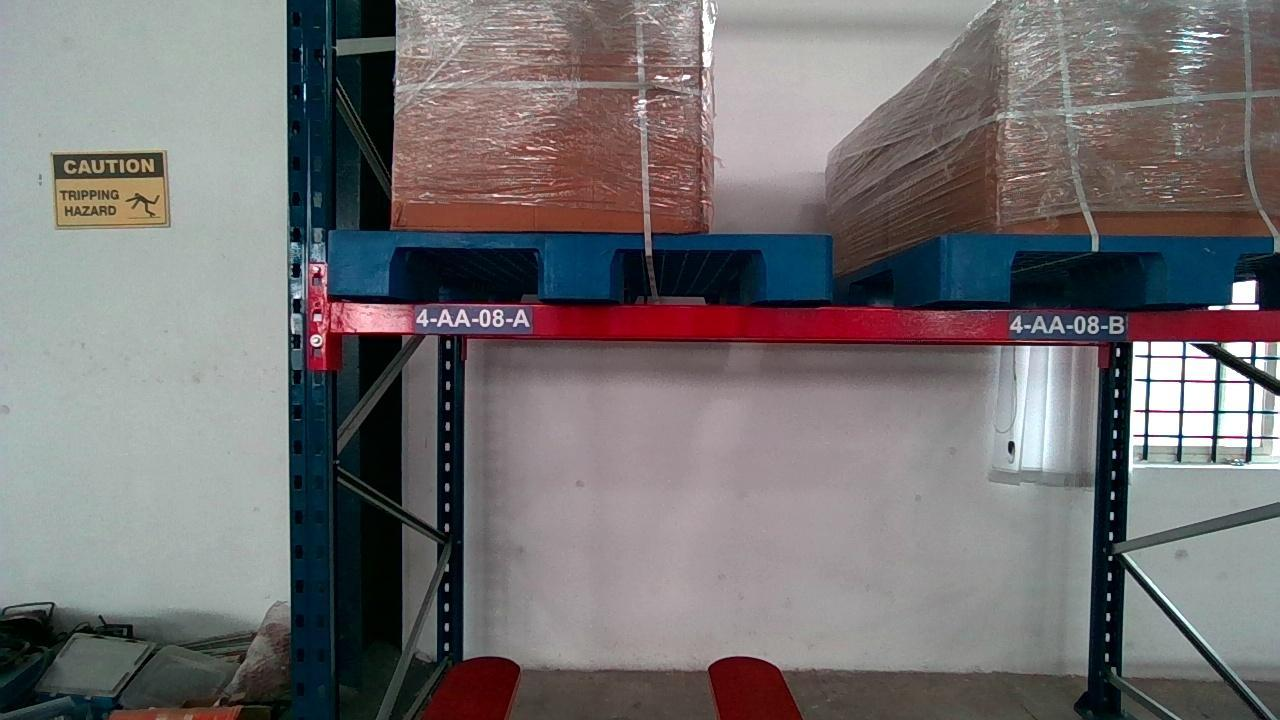h_rack: (327, 301, 1279, 341)
small_pallet: (330, 227, 827, 297)
